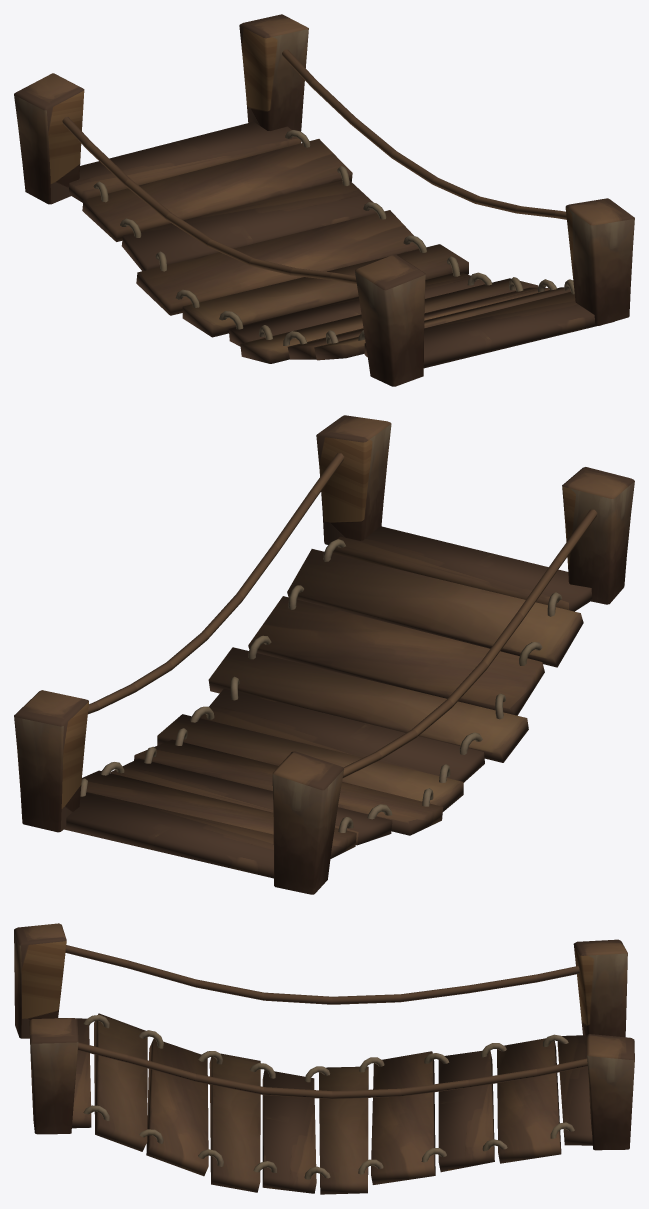
The model's file is sm_Bridge01.fbx.
3 renders of one model, top to bottom at view 1: azimuth 30°, elevation 25°; view 2: azimuth 150°, elevation 25°; view 3: azimuth 270°, elevation 25°, orthographic. The views are drawn at different scales.
Visible parts, largest first — view 1: BridgePlank02, BridgePlank05, BridgePlank01, BridgePost, BridgePost1, BridgePost3, BridgePlank07, BridgePlank09, BridgePlank06, BridgePost2, BridgePlank03, BridgePlank010 (+4 smaller); view 2: BridgePlank08, BridgePlank04, BridgePlank03, BridgePlank010, BridgePlank07, BridgePost2, BridgePlank06, BridgePost3, BridgePost1, BridgePost, BridgePlank09, BridgePlank02 (+4 smaller); view 3: BridgePlank02, BridgePlank08, BridgePlank05, BridgePlank03, BridgePlank04, BridgePlank01, BridgePlank09, BridgePlank010, BridgePost1, BridgePost2, BridgePost, BridgePost3 (+4 smaller).
Boxes of the visible parts, <box> form: BridgePlank02: <box>136,210,418,315</box>; BridgePlank05: <box>82,139,352,241</box>; BridgePlank01: <box>121,180,376,271</box>; BridgePost: <box>355,254,425,386</box>; BridgePost1: <box>565,198,634,325</box>; BridgePost3: <box>14,73,84,204</box>; BridgePlank07: <box>69,121,301,202</box>; BridgePlank09: <box>182,244,468,337</box>; BridgePlank06: <box>364,292,614,368</box>; BridgePost2: <box>239,14,308,131</box>; BridgePlank03: <box>240,278,538,363</box>; BridgePlank010: <box>228,272,484,346</box>; BridgePlank08: <box>248,596,544,715</box>; BridgePlank04: <box>287,549,583,667</box>; BridgePlank03: <box>208,647,528,762</box>; BridgePlank010: <box>200,688,484,782</box>; BridgePlank07: <box>64,792,273,878</box>; BridgePost2: <box>14,690,88,832</box>; BridgePlank06: <box>332,526,592,611</box>; BridgePost3: <box>272,751,344,894</box>; BridgePost1: <box>316,415,391,544</box>; BridgePost: <box>562,467,634,604</box>; BridgePlank09: <box>157,714,463,811</box>; BridgePlank02: <box>134,739,443,835</box>; BridgePlank02: <box>371,1051,435,1184</box>; BridgePlank08: <box>146,1038,208,1176</box>; BridgePlank05: <box>497,1038,561,1163</box>; BridgePlank03: <box>209,1053,260,1192</box>; BridgePlank04: <box>94,1013,147,1151</box>; BridgePlank01: <box>438,1050,494,1172</box>; BridgePlank09: <box>319,1066,368,1194</box>; BridgePlank010: <box>262,1070,316,1193</box>; BridgePost1: <box>29,1018,78,1134</box>; BridgePost2: <box>586,1034,634,1150</box>; BridgePost: <box>14,923,66,1038</box>; BridgePost3: <box>573,939,627,1037</box>.
Size of the model in its own units: 476 by 269 by 911.
Materials: 1 (1 with a texture image).
